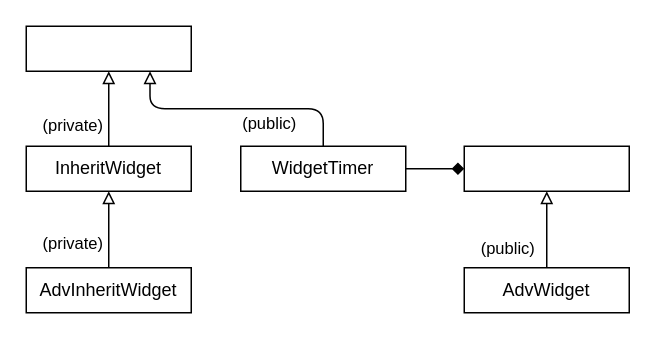
This 656x339 diagram has some shape labels left out. The box of each missing label's shape, as (x1, y1, x2, y2) in pixels:
Timer: (25, 25, 191, 71)
Widget: (463, 145, 629, 191)
